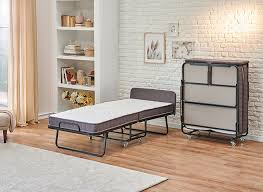bed-matress: (48, 96, 178, 135)
